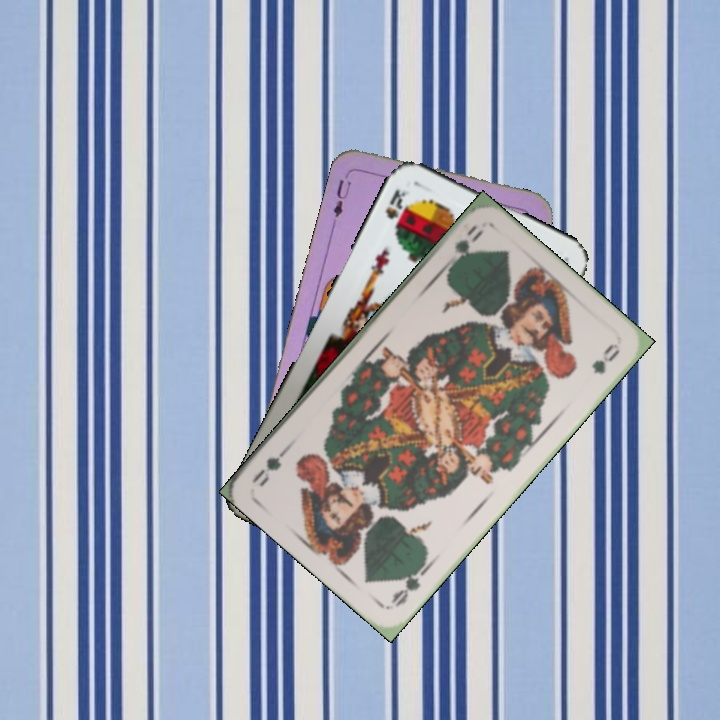EU: (329, 167, 354, 220)
GO: (386, 558, 433, 611), (440, 220, 486, 273)
SK: (380, 185, 412, 222)
